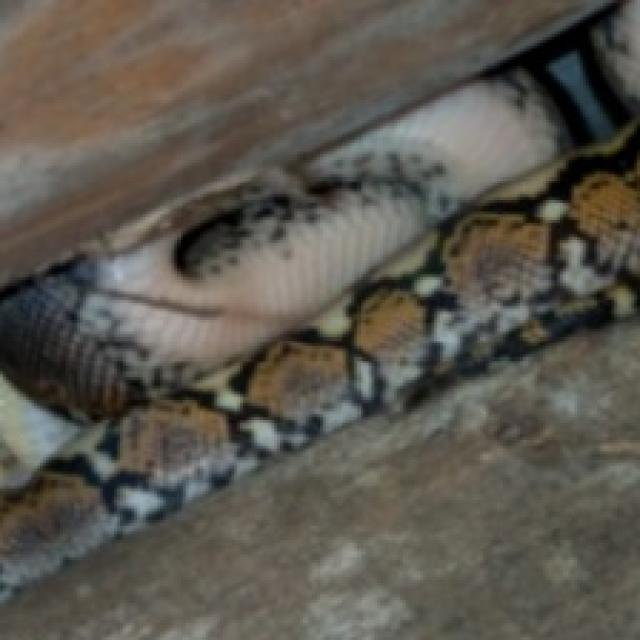reticulated python: (1, 68, 640, 601)
